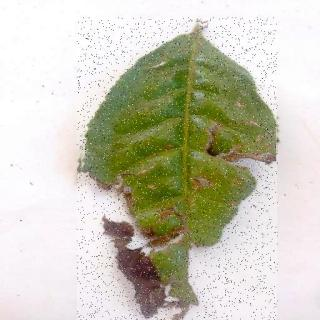Brown Blight: (78, 18, 278, 320)
